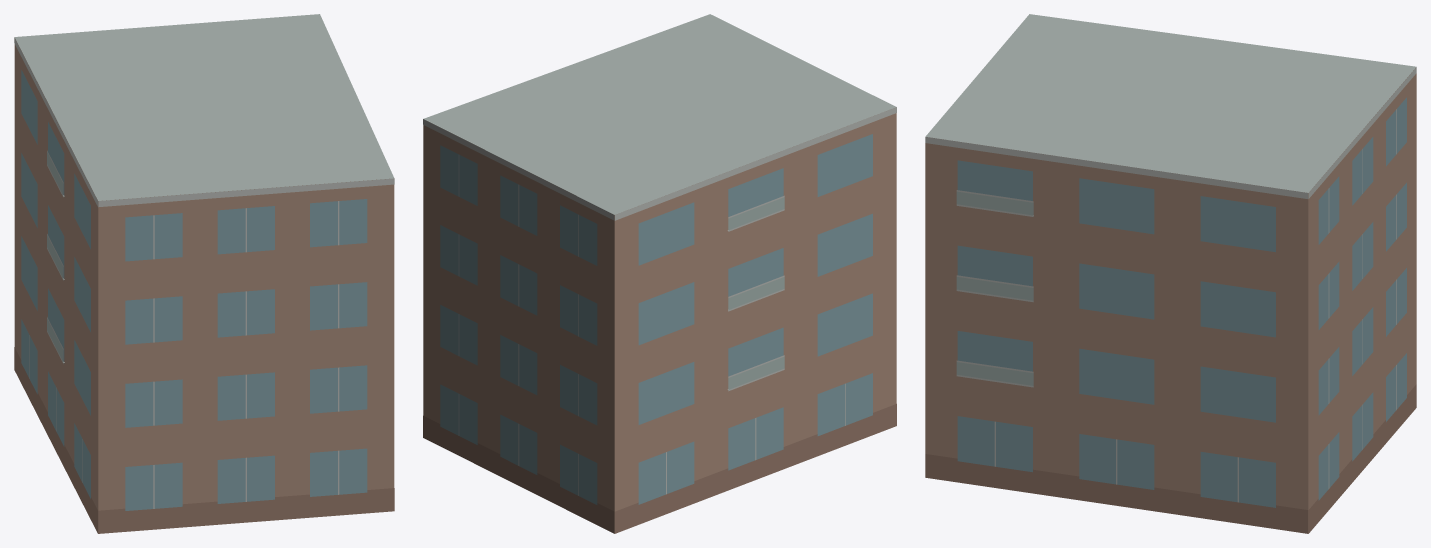
File: survey-upis-32969175.glb
The picture shows the model from 3 angles, left to right: view 1: azimuth 30°, elevation 25°; view 2: azimuth 150°, elevation 25°; view 3: azimuth 270°, elevation 25°; orthographic projection. The views are drawn at different scales.
Parts seen in each view (by area): view 1: survey-upis-32969175.tmp; view 2: survey-upis-32969175.tmp; view 3: survey-upis-32969175.tmp.
Boxes of the visible parts, bbox=[...] form: survey-upis-32969175.tmp: bbox=[14, 14, 394, 533]; survey-upis-32969175.tmp: bbox=[423, 14, 896, 533]; survey-upis-32969175.tmp: bbox=[925, 14, 1416, 533].
Bounding box in the file's own units: 14.89 × 13.22 × 17.28.
